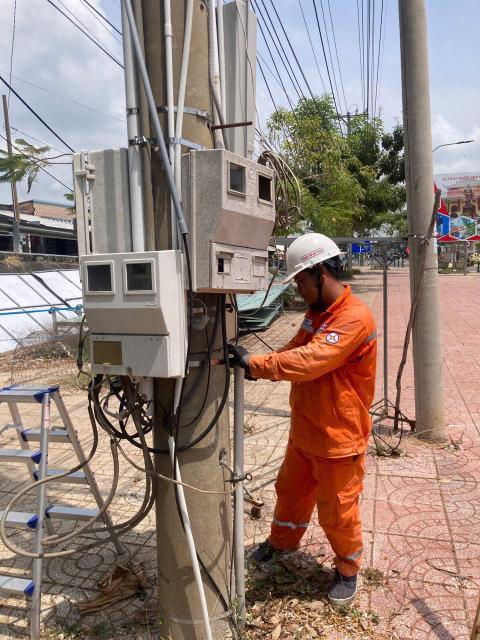gloves: (219, 340, 254, 371)
helmet: (278, 230, 348, 280)
shoes: (316, 557, 363, 607), (245, 534, 296, 564)
